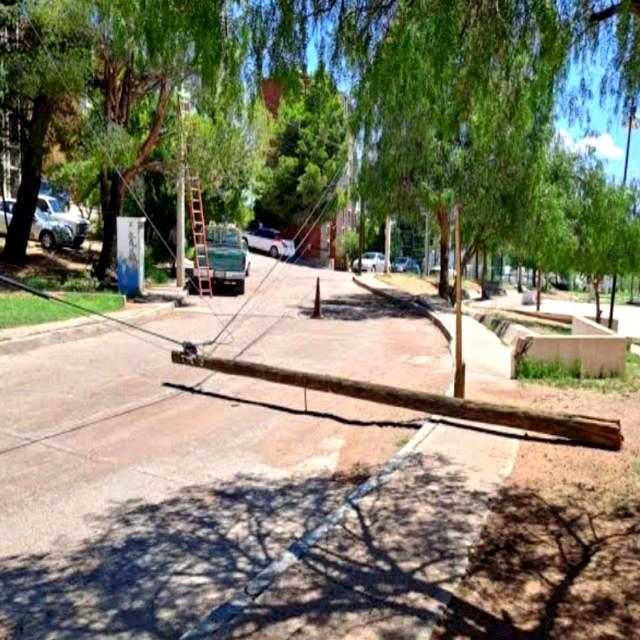Broken Pole: (173, 338, 622, 456)
